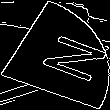N_NW: (13, 26, 97, 84)
